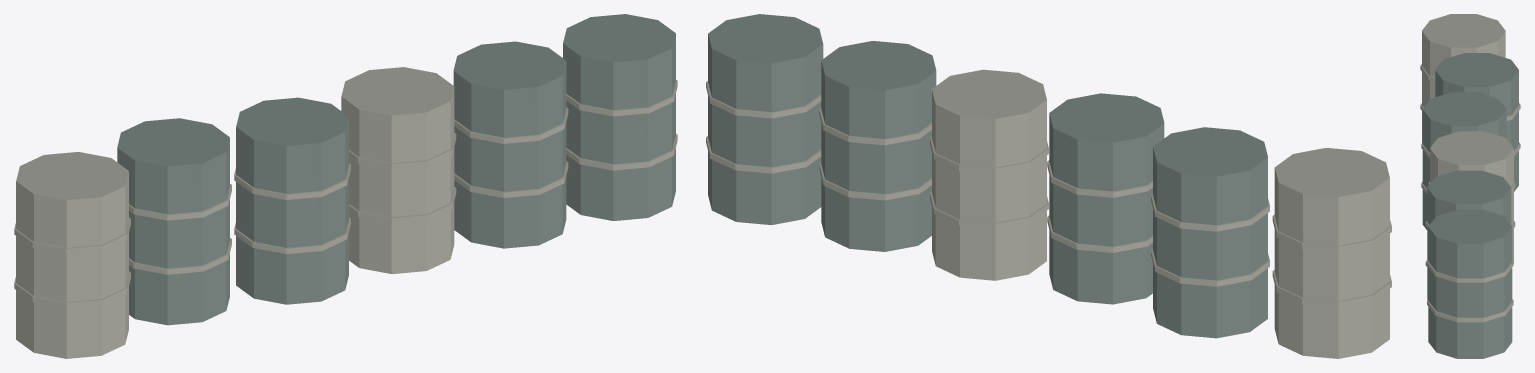
The model's file is SM_Bidones_v1_Fila6_LOD0.fbx.
3 renders of one model, left to right at view 1: azimuth 30°, elevation 25°; view 2: azimuth 150°, elevation 25°; view 3: azimuth 270°, elevation 25°, orthographic. The views are drawn at different scales.
Parts seen in each view (by area): view 1: SM_sagunto_vivo_v1_LOD0; view 2: SM_sagunto_vivo_v1_LOD0; view 3: SM_sagunto_vivo_v1_LOD0.
Part boxes in pixels (left/top/right/bottom): SM_sagunto_vivo_v1_LOD0: left=14, top=14, right=677, bottom=358; SM_sagunto_vivo_v1_LOD0: left=706, top=14, right=1391, bottom=358; SM_sagunto_vivo_v1_LOD0: left=1420, top=14, right=1520, bottom=358.
Size of the model in its own units: 3.77 by 0.88 by 0.6922.
